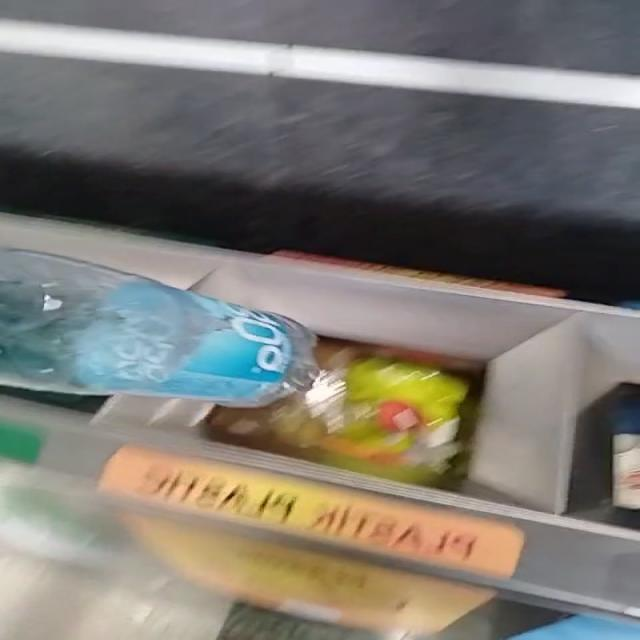plastic: (0, 250, 316, 407)
